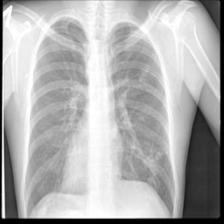tuberculosis: (17, 14, 180, 219)
